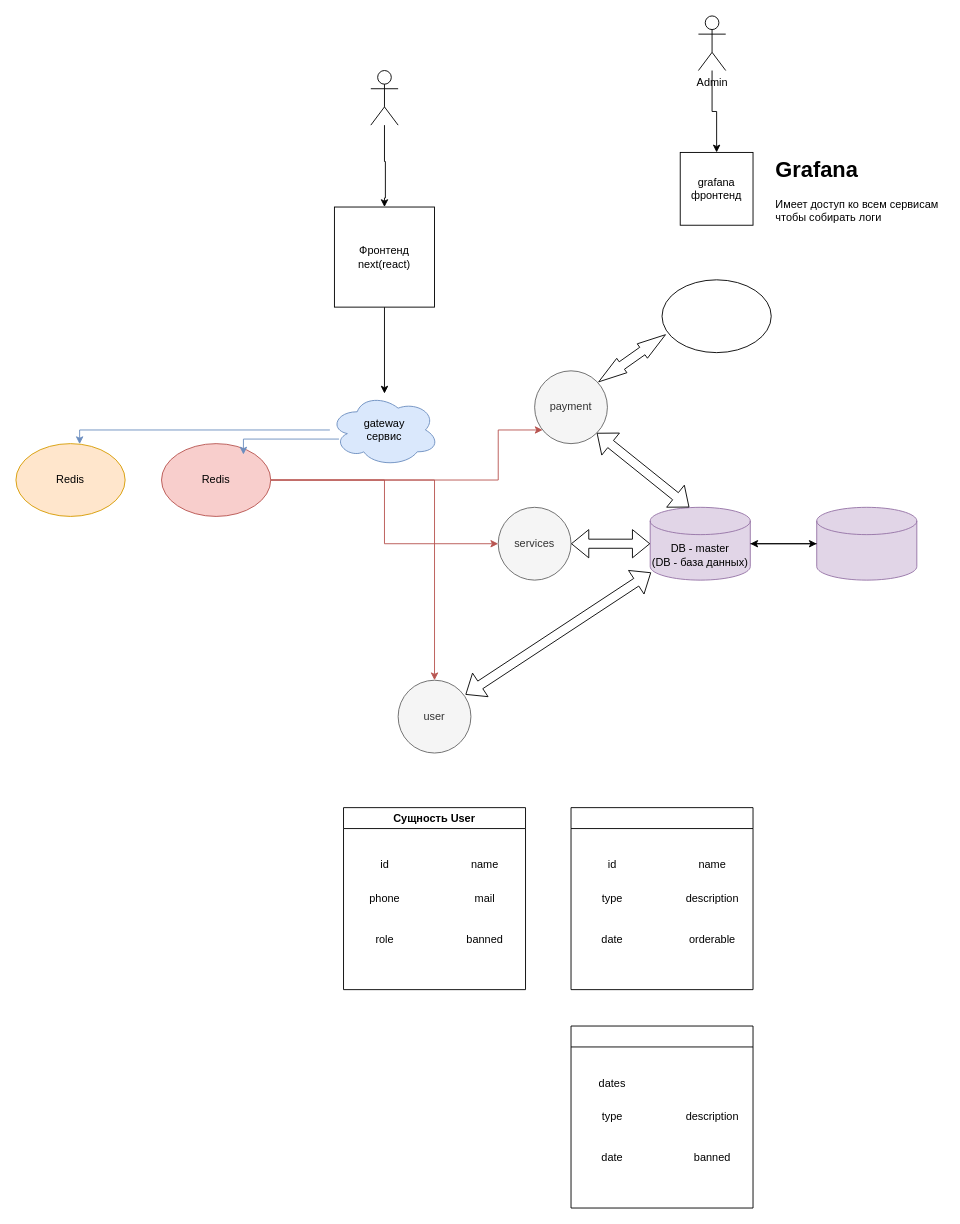
This 960x1224 diagram has some shape labels left out. The box of each missing label's shape, as (x1, y1, x2, y2) in pixels:
DB - slave: (816, 506, 917, 580)
RabbitMQ: (661, 279, 771, 353)
Сущность Date: (570, 1025, 753, 1208)
Сущность Service: (570, 807, 753, 990)
Юзер: (370, 70, 398, 125)
